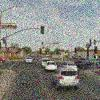cars: (55, 65, 82, 90), (41, 60, 59, 72)
